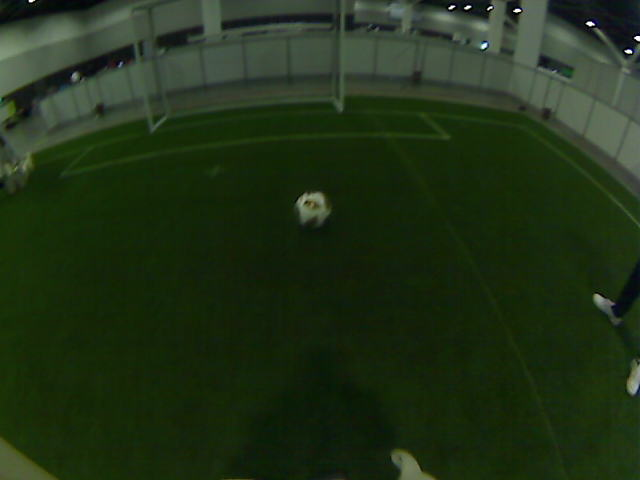ball: (293, 189, 333, 229)
goalpost: (134, 74, 170, 134), (328, 45, 351, 114)
robot: (5, 143, 32, 185)
